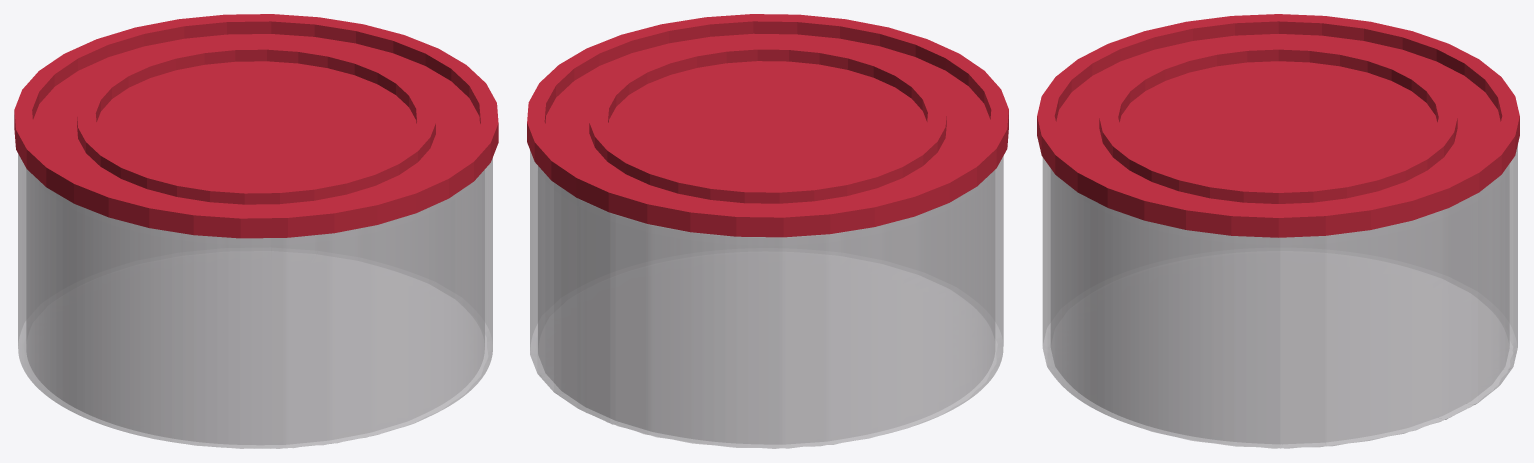
File: SmallFoodStorage1.fbx
3 renders of one model, left to right at view 1: azimuth 30°, elevation 25°; view 2: azimuth 150°, elevation 25°; view 3: azimuth 270°, elevation 25°, orthographic.
Visible parts, largest first — view 1: Cylinder, Cylinder.001; view 2: Cylinder, Cylinder.001; view 3: Cylinder, Cylinder.001.
Part boxes in pixels (x1=…): Cylinder: x1=18, y1=153, x2=492, y2=448; Cylinder.001: x1=14, y1=14, x2=498, y2=238; Cylinder: x1=530, y1=150, x2=1003, y2=448; Cylinder.001: x1=527, y1=14, x2=1008, y2=237; Cylinder: x1=1042, y1=145, x2=1517, y2=448; Cylinder.001: x1=1037, y1=14, x2=1519, y2=237.
Bounding box in the file's own units: 203 × 109 × 203.
